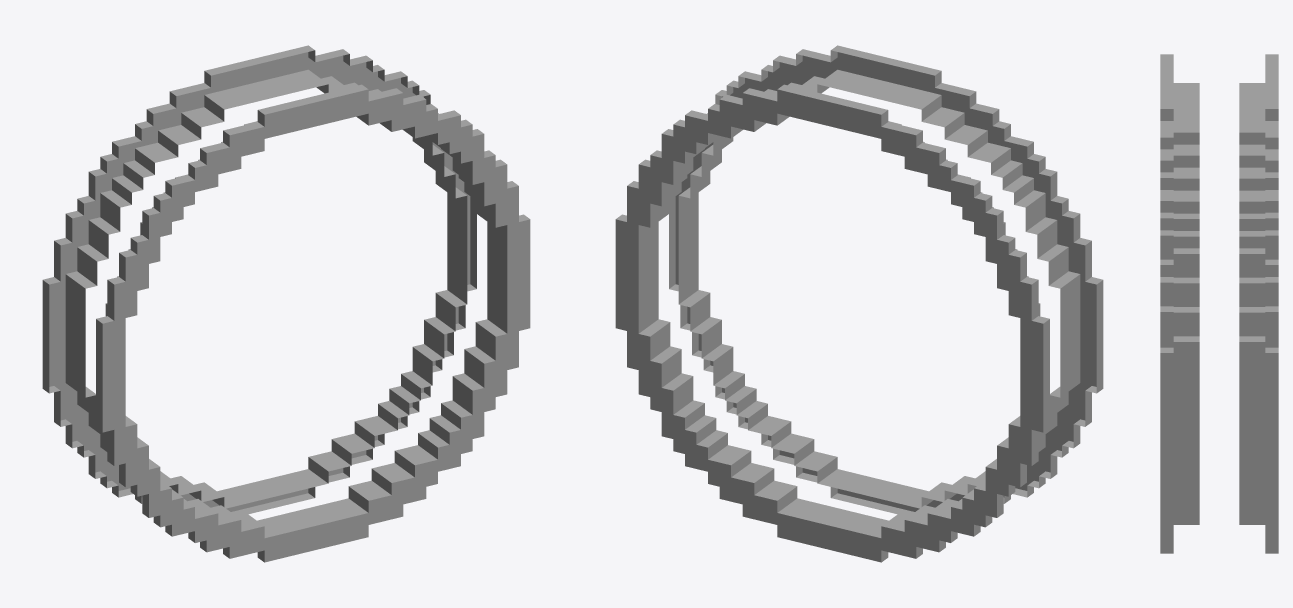
Rendered from carnegie.obj.
The picture shows the model from 3 angles, left to right: view 1: azimuth 30°, elevation 25°; view 2: azimuth 150°, elevation 25°; view 3: azimuth 270°, elevation 25°; orthographic projection.
Bounding box in the file's own units: 43 × 43 × 9.
